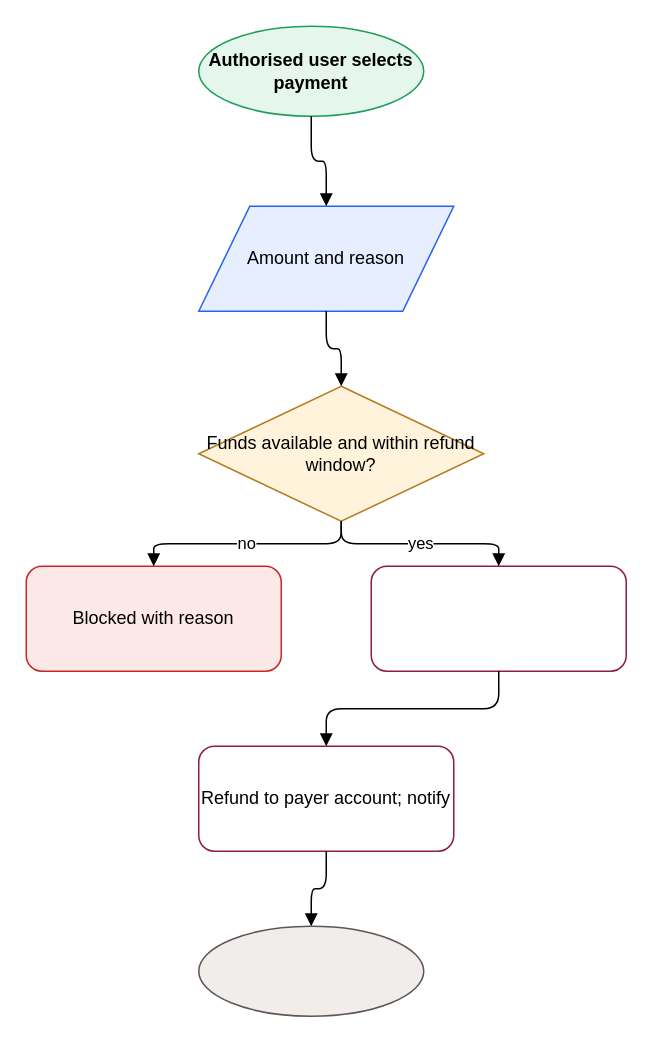
This 653x1043 diagram has some shape labels left out. Here are the shapes that lost their labels. From the top down, the centre of each, then its label:
At (x=498, y=618): "Confirm with PIN (dual control above threshold)".
At (x=310, y=970): "Done".
